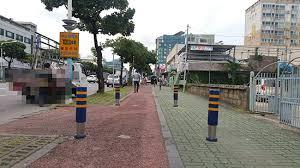Animal: (77, 84, 92, 135), (207, 91, 219, 143), (171, 85, 180, 107), (114, 81, 122, 104)
